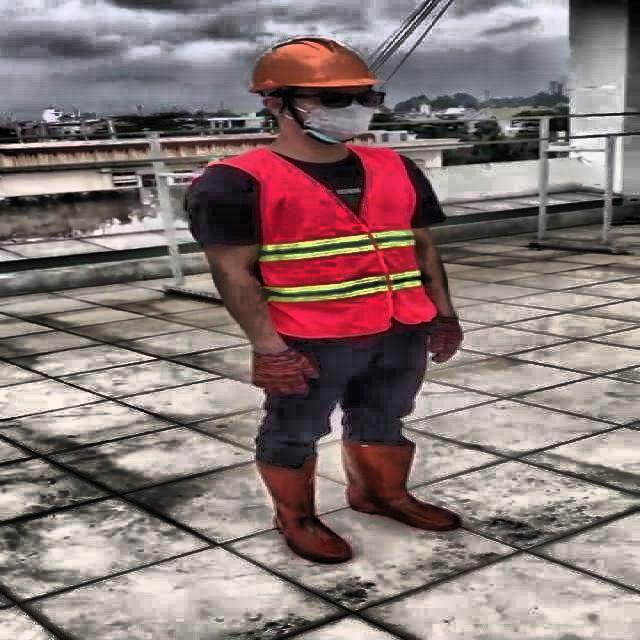safety_helmet: (239, 34, 389, 94)
safety_jacket: (249, 141, 434, 336)
